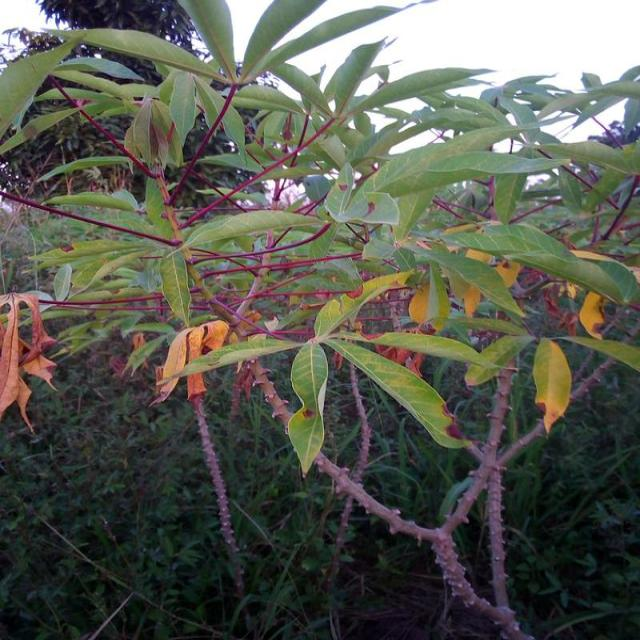cassava leaf: (322, 334, 472, 449), (286, 340, 328, 476), (531, 336, 571, 433)
